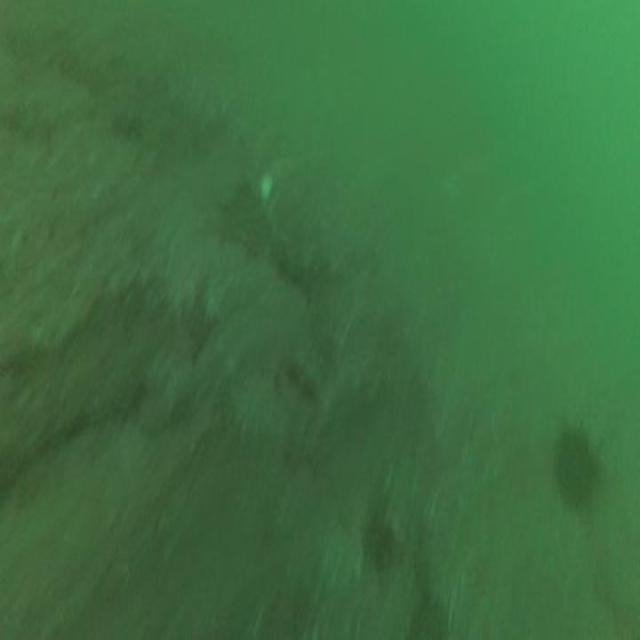echinus: (548, 406, 610, 520)
